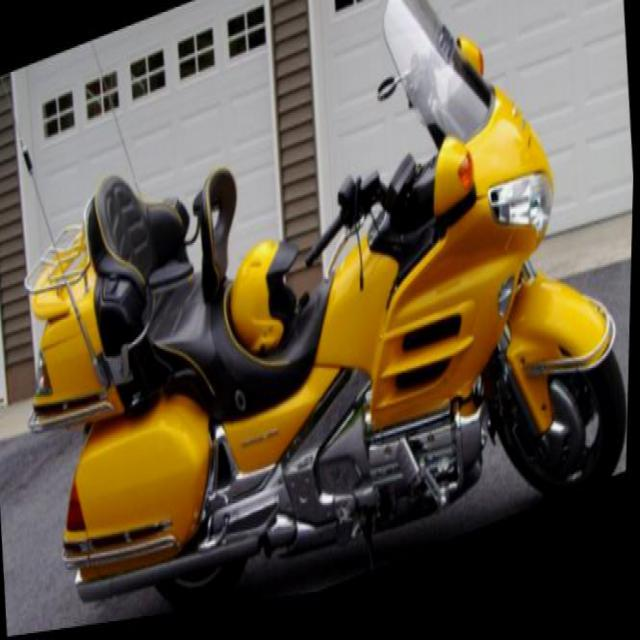Gold Wing: (0, 0, 639, 637)
